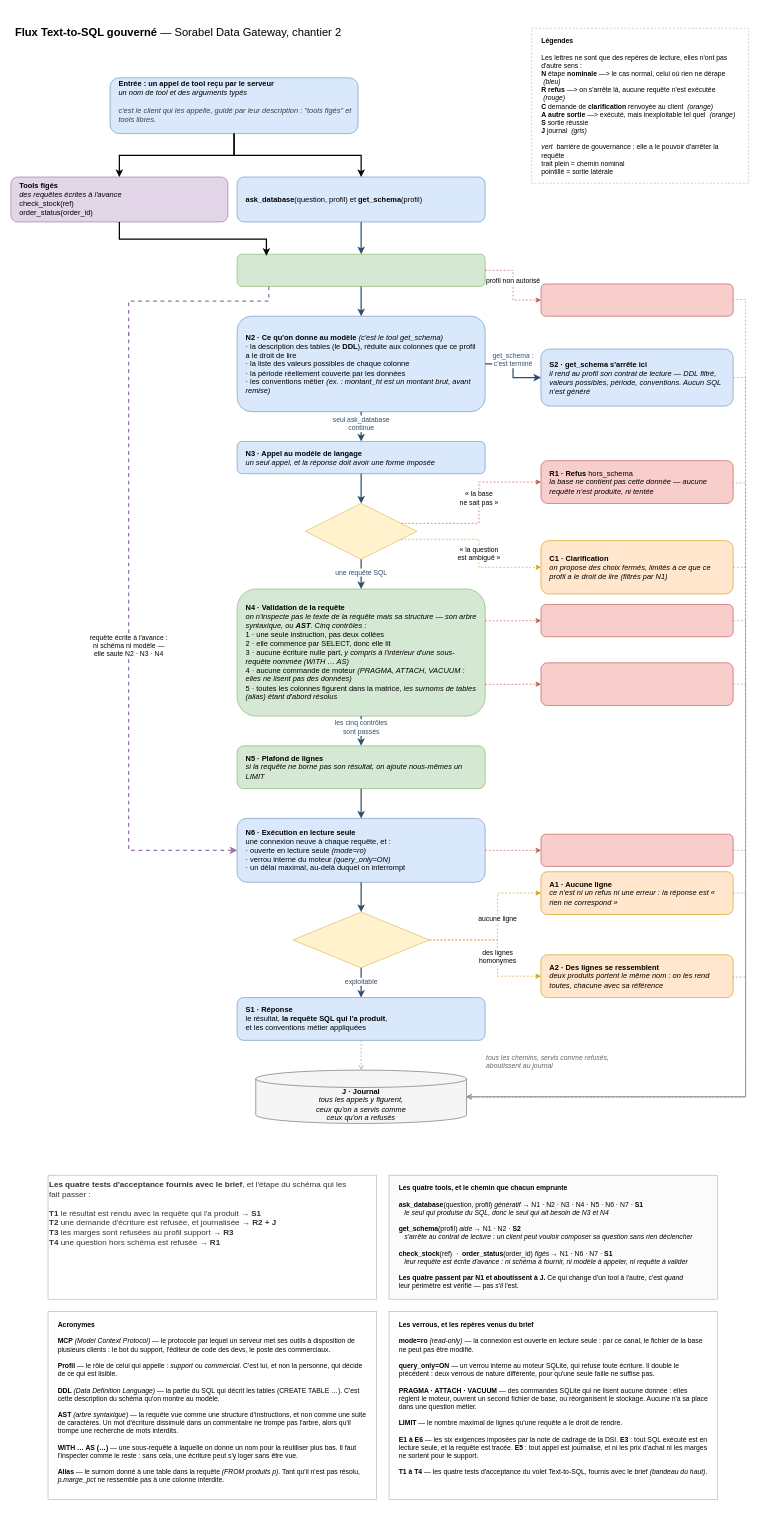
Image size: 778x1534. Some labels were removed from this diagram. Each missing label, with the centre of its shape:
N1 · Matrice d'accès qui a le droit de lire quoi — profil × table × colonne: the point at 361,270
N7 le résultat est-il exploitable ?: the point at 360,939
que renvoie le modèle ?: the point at 361,531
R0 · Refus non_autorise ce profil n'a pas droit à ce tool: the point at 636,299
R2 · Refus ecriture_refusee déclenché par les contrôles 1 à 4: the point at 636,620
R3 · Refus perimetre_interdit contrôle 5 — le message nomme la colonne en cause: the point at 636,684
R4 · Erreur d'exécution délai dépassé, ou trop de lignes rendues: the point at 636,850
